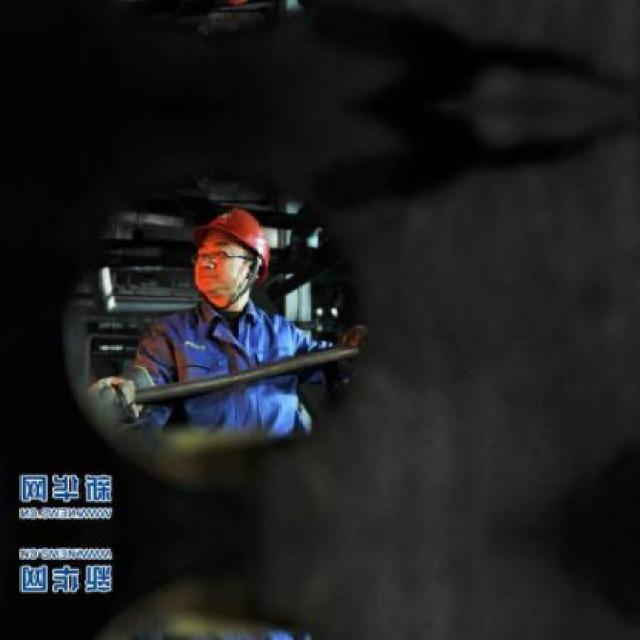helmet: (184, 198, 276, 312)
